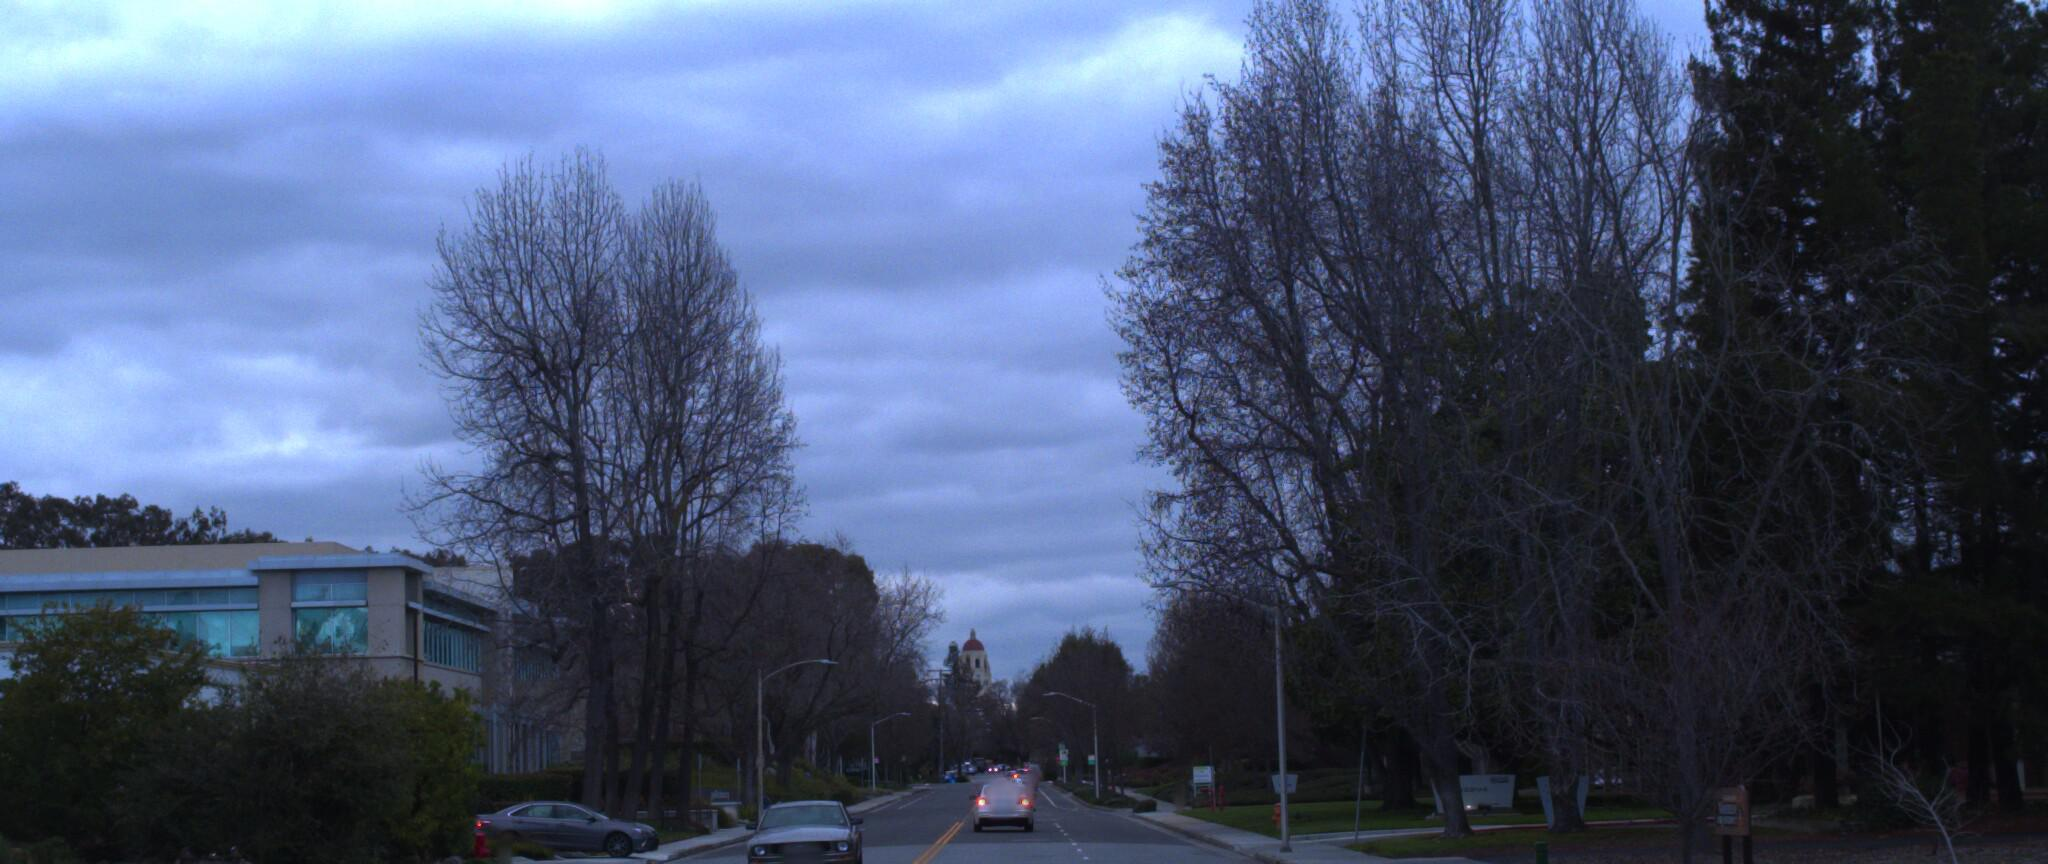car: (726, 780, 865, 864), (481, 777, 667, 834)
